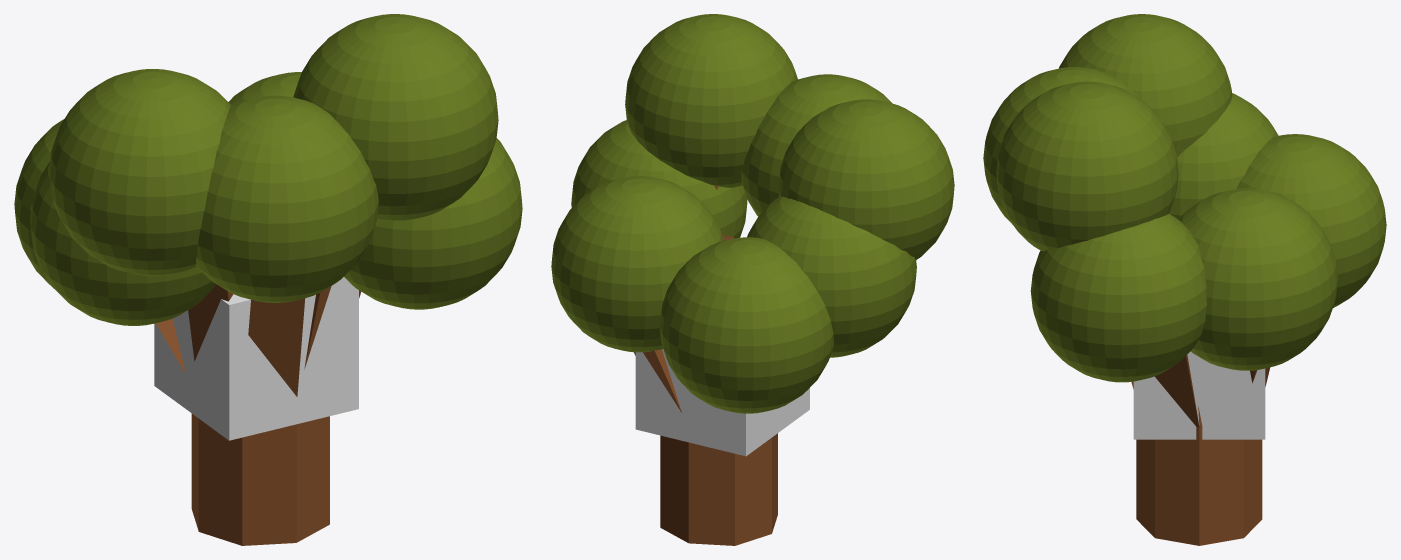
Rendered from drevo1.glb.
3 renders of one model, left to right at view 1: azimuth 30°, elevation 25°; view 2: azimuth 150°, elevation 25°; view 3: azimuth 270°, elevation 25°, orthographic. The views are drawn at different scales.
Visible parts, largest first — view 1: Cylinder, Cube; view 2: Cylinder, Cube; view 3: Cylinder, Cube.
Part boxes in pixels (bbox=[...]): Cylinder: bbox=[14, 14, 522, 545]; Cube: bbox=[154, 277, 358, 440]; Cylinder: bbox=[551, 14, 954, 545]; Cube: bbox=[635, 349, 809, 456]; Cylinder: bbox=[983, 14, 1386, 545]; Cube: bbox=[1133, 351, 1265, 439].
Bounding box in the file's own units: 2.1 × 2.42 × 1.92.
